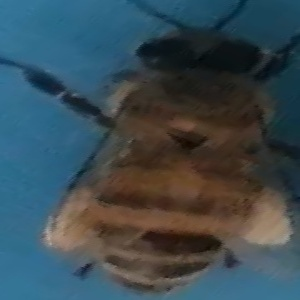bee: (50, 1, 298, 285)
